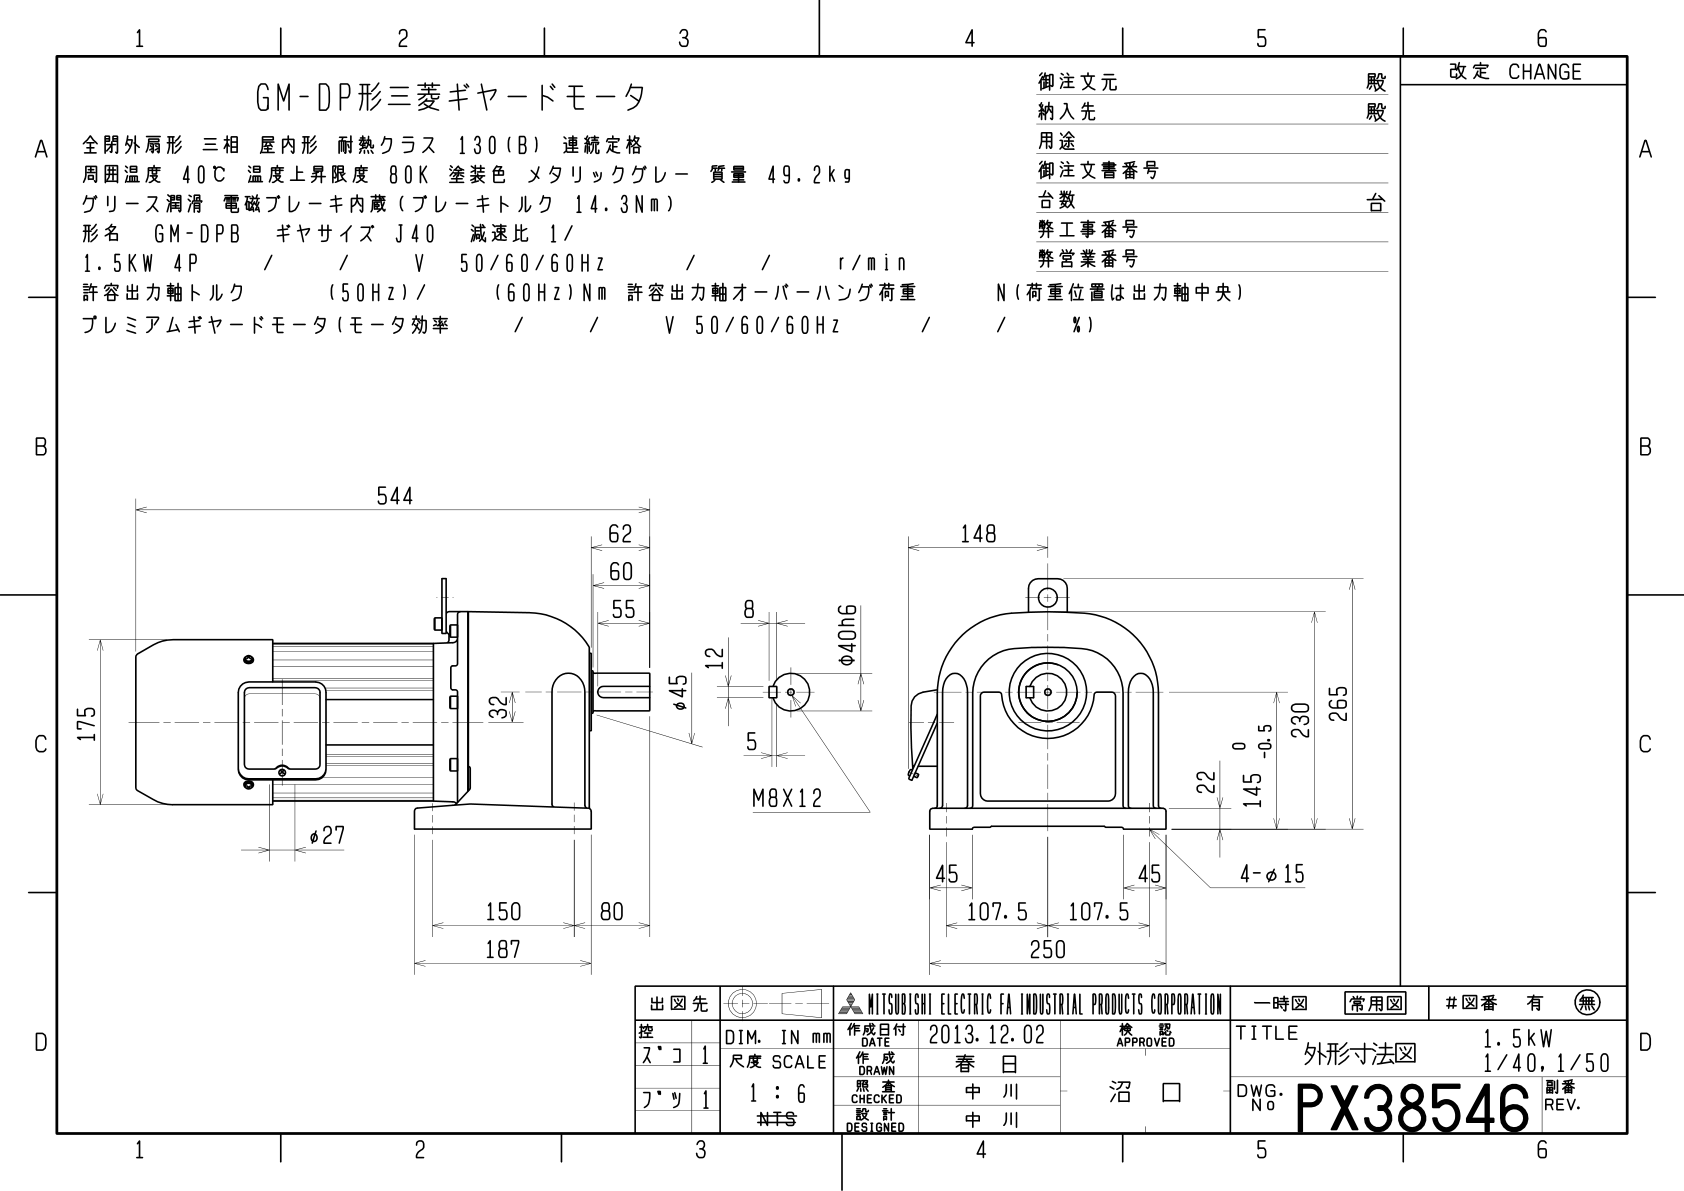GM_DP_屋内_三相_脚: (64, 421, 1375, 982)
